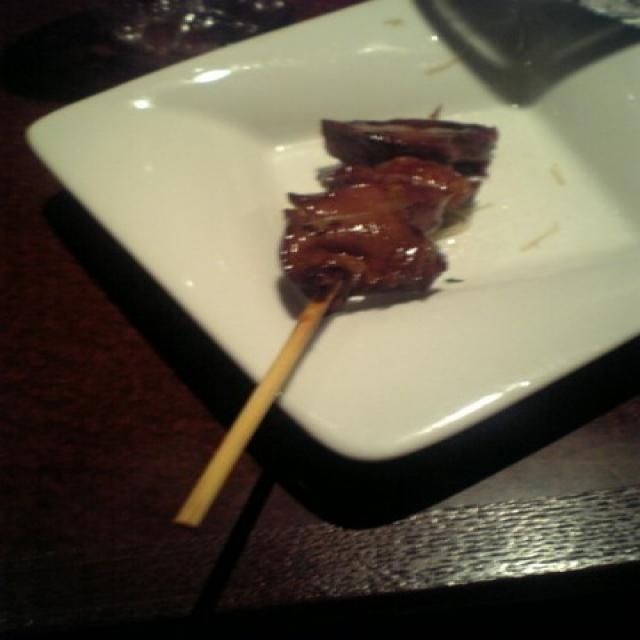烧串烤肉: (240, 68, 501, 480)
